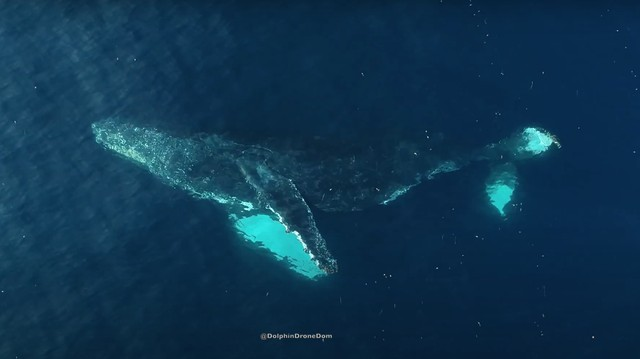whale: (79, 108, 568, 290)
